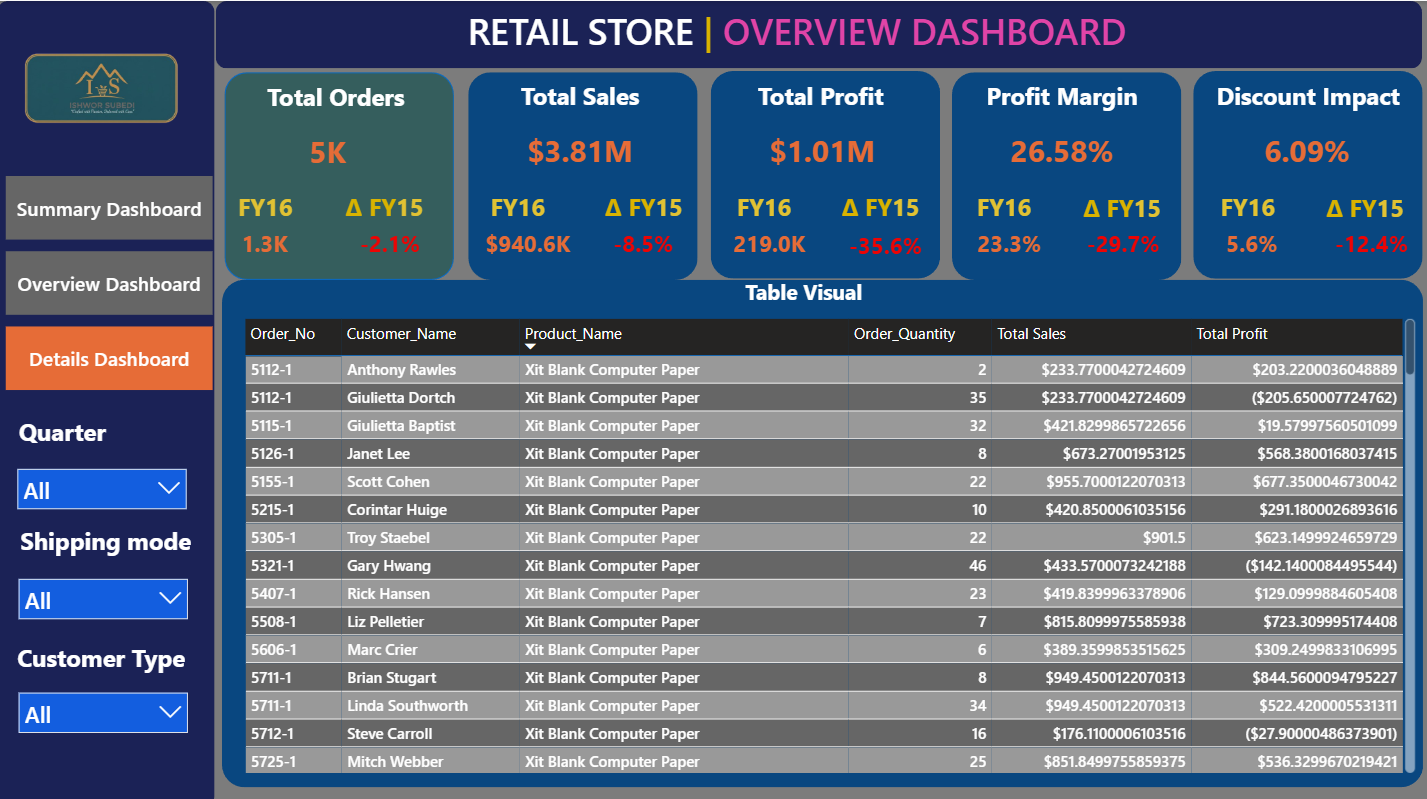

The dashboard page shown, as its layout file describes it:
{"tool":"powerbi","page":{"name":"Details Dashboard","canvas":[1280,720],"ordinal":2},"visuals":[{"type":"shape","box":[195.4,0,1077.5,60.3],"z":0},{"type":"slicer","fields":{"Values":["Date.Quarter"]},"box":[8.1,408.2,171.8,63.1],"z":0,"group":"g1"},{"type":"slicer","fields":{"Values":["retail_data.Ship_Mode"]},"box":[8.7,505.5,171.8,63.1],"z":0,"group":"g2"},{"type":"slicer","fields":{"Values":["retail_data.Customer_Type"]},"box":[9.3,607.7,171.8,63.1],"z":0,"group":"g3"},{"type":"shape","box":[203.3,63.3,205,185.6],"z":1000},{"type":"textbox","box":[0,365.3,116.8,45.6],"z":1000,"group":"g1"},{"type":"textbox","box":[13.2,462.4,167.5,45.8],"z":1000,"group":"g2"},{"type":"textbox","box":[1.1,567.4,183.9,51],"z":1000,"group":"g3"},{"type":"shape","box":[0,0,194.3,720.2],"z":2000},{"type":"textbox","box":[355.1,0,719.1,72.6],"z":3000},{"type":"shape","box":[421.1,63.3,205,185.6],"z":4000},{"type":"card","fields":{"Values":["retail_data.Total Orders"]},"box":[212.2,107,166.7,56.7],"z":5000},{"type":"card","fields":{"Values":["retail_data.Total Sales"]},"box":[437.2,107.4,166.3,55.8],"z":6000},{"type":"textbox","box":[202.3,65.7,201.2,45.3],"z":7000},{"type":"textbox","box":[419.9,65,202.1,46.9],"z":8000},{"type":"shape","box":[637.6,63,205,185.4],"z":9000},{"type":"shape","box":[853.3,63.3,205,185.6],"z":10000},{"type":"shape","box":[1068.9,62.9,205,185.6],"z":11000},{"type":"textbox","box":[194.2,164.7,84.9,45.3],"z":12000},{"type":"textbox","box":[276.7,164.7,132.6,45.3],"z":13000},{"type":"textbox","box":[520.9,164.7,101.2,45.3],"z":14000},{"type":"textbox","box":[732.2,164.4,107.8,45.6],"z":15000},{"type":"textbox","box":[948.9,165.1,100,44.4],"z":16000},{"type":"textbox","box":[1170,165.6,97.8,44.4],"z":17000},{"type":"textbox","box":[419.8,164.7,84.9,45.3],"z":18000},{"type":"textbox","box":[639.5,164.7,84.9,45.3],"z":19000},{"type":"textbox","box":[854.7,164.7,84.9,45.3],"z":20000},{"type":"textbox","box":[1072.1,164.7,84.9,45.3],"z":21000},{"type":"textbox","box":[635.4,64.8,201,46.9],"z":22000},{"type":"textbox","box":[850.9,64.8,201,46.9],"z":23000},{"type":"textbox","box":[1070.8,64.8,201,46.9],"z":24000},{"type":"card","fields":{"Values":["retail_data.Total Sales 2016"]},"box":[390.5,190.9,167.4,55.8],"z":25000},{"type":"card","fields":{"Values":["retail_data.Orders YTD"]},"box":[155.8,190.9,166.3,55.8],"z":26000},{"type":"card","fields":{"Values":["retail_data.YOY Orders %"]},"box":[267.8,191.1,166.7,55.6],"z":27000},{"type":"card","fields":{"Values":["retail_data.Sales diffrence%"]},"box":[495,190.2,165.9,57.2],"z":28000},{"type":"card","fields":{"Values":["retail_data.Total Profit"]},"box":[654.3,107.7,166,55.3],"z":29000},{"type":"card","fields":{"Values":["retail_data.Total Profit 2016"]},"box":[606.7,191.1,167.8,55.6],"z":30000},{"type":"card","fields":{"Values":["retail_data.profit diffrence%"]},"box":[711.3,192.1,165.3,55.8],"z":31000},{"type":"card","fields":{"Values":["retail_data.profit margindiffrence%"]},"box":[923.3,191.1,165.6,55.6],"z":32000},{"type":"card","fields":{"Values":["retail_data.Profit Margin %"]},"box":[868.9,107.5,165.6,55.6],"z":33000},{"type":"card","fields":{"Values":["retail_data.Discount Impact %"]},"box":[1087.8,107.5,165.6,55.6],"z":34000},{"type":"card","fields":{"Values":["retail_data.profit margin 2016"]},"box":[821.1,192.2,167.8,53.3],"z":35000},{"type":"shape","box":[201,249,1073.1,453.4],"z":36000},{"type":"card","fields":{"Values":["retail_data.Discount impact 2016"]},"box":[1037.8,192.2,167.8,53.3],"z":37000},{"type":"card","fields":{"Values":["retail_data.discount impact diffrence%"]},"box":[1178.9,191.1,97.8,55.6],"z":38000},{"type":"textbox","box":[537.1,242.3,367.4,35.7],"z":39000},{"type":"group","id":"g1","title":"Group 1","box":[0,365.3,179.8,106],"z":40000},{"type":"group","id":"g2","title":"Group 1","box":[8.7,462.4,172,106.2],"z":41000},{"type":"group","id":"g3","title":"Group 1","box":[1.1,567.4,183.9,103.4],"z":42000},{"type":"image","box":[1.1,0,184.2,155.2],"z":43000},{"type":"tableEx","fields":{"Values":["retail_data.Order_No","retail_data.Customer_Name","retail_data.Product_Name","retail_data.Order_Quantity","retail_data.Total Sales","retail_data.Total Profit"]},"box":[215.5,279.2,1056.3,415.4],"z":44000},{"type":"pageNavigator","box":[7.8,156.3,185.4,193.2],"z":45000}]}

Visuals, with their boxes in screenshot pixels (x1, y1, x2, y2), scaled from the page's 1280x720 canvas onto the 1427x799 screenshot:
shape: 218/0/1419/67
slicer - Date.Quarter: 9/453/201/523
slicer - retail_data.Ship_Mode: 10/561/201/631
slicer - retail_data.Customer_Type: 10/674/202/744
shape: 227/70/455/276
textbox: 0/405/130/456
textbox: 15/513/201/564
textbox: 1/630/206/686
shape: 0/0/217/798
textbox: 396/0/1198/81
shape: 469/70/698/276
card - retail_data.Total Orders: 237/119/422/182
card - retail_data.Total Sales: 487/119/673/181
textbox: 226/73/450/123
textbox: 468/72/693/124
shape: 711/70/939/276
shape: 951/70/1180/276
shape: 1192/70/1420/276
textbox: 217/183/311/233
textbox: 308/183/456/233
textbox: 581/183/694/233
textbox: 816/182/936/233
textbox: 1058/183/1169/232
textbox: 1304/184/1413/233
textbox: 468/183/563/233
textbox: 713/183/808/233
textbox: 953/183/1048/233
textbox: 1195/183/1290/233
textbox: 708/72/932/124
textbox: 949/72/1173/124
textbox: 1194/72/1418/124
card - retail_data.Total Sales 2016: 435/212/622/274
card - retail_data.Orders YTD: 174/212/359/274
card - retail_data.YOY Orders %: 299/212/484/274
card - retail_data.Sales diffrence%: 552/211/737/275
card - retail_data.Total Profit: 729/120/915/181
card - retail_data.Total Profit 2016: 676/212/863/274
card - retail_data.profit diffrence%: 793/213/977/275
card - retail_data.profit margindiffrence%: 1029/212/1214/274
card - retail_data.Profit Margin %: 969/119/1153/181
card - retail_data.Discount Impact %: 1213/119/1397/181
card - retail_data.profit margin 2016: 915/213/1102/272
shape: 224/276/1420/779
card - retail_data.Discount impact 2016: 1157/213/1344/272
card - retail_data.discount impact diffrence%: 1314/212/1423/274
textbox: 599/269/1008/309
"Group 1" group: 0/405/200/523
"Group 1" group: 10/513/201/631
"Group 1" group: 1/630/206/744
image: 1/0/207/172
tableEx - retail_data.Order_No x retail_data.Customer_Name: 240/310/1418/771
pageNavigator: 9/173/215/388
